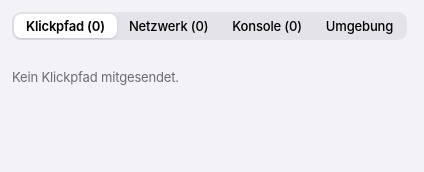
Scenario: KontextTabs › crasht bei fehlenden Kategorien nicht (leerer Kontext)
The width and height of the screenshot is (424, 172).
Expected: the text "Kein Klickpfad mitgesendet." is shown, [12,69,179,85]
Click the button "Netzwerk (0)" at (169, 26), box [117,14,220,38]
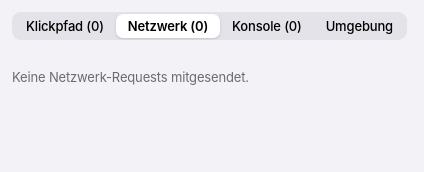
Expected: the text "Keine Netzwerk-Requests mitgesendet." is shown, [12,69,249,85]
Click the button "Konsole (0)" at (267, 26), box [220,14,314,38]
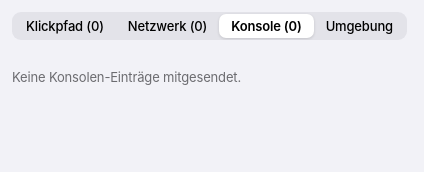
Expected: the text "Keine Konsolen-Einträge mitgesendet." is shown, [12,69,241,85]
Click the button "Umgebung" at (359, 26), box [314,14,405,38]
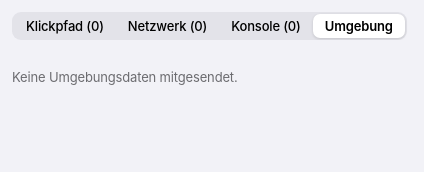
Expected: the text "Keine Umgebungsdaten mitgesendet." is shown, [12,69,238,85]
